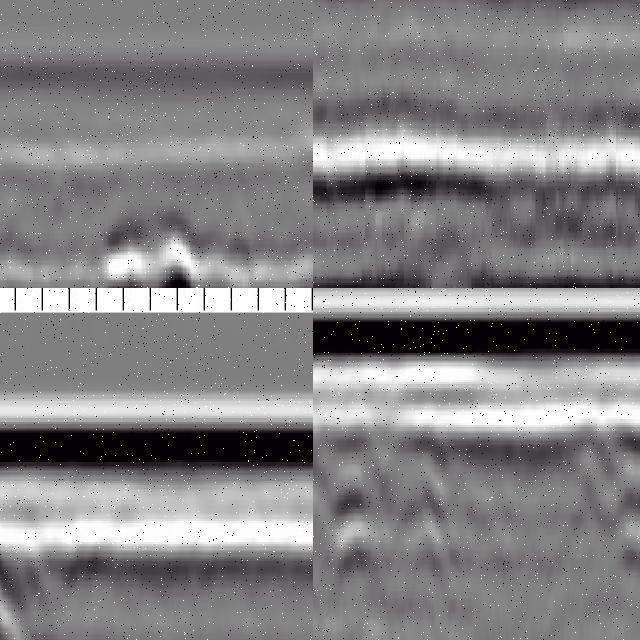loose: (314, 390, 465, 574), (1, 509, 140, 640), (87, 210, 249, 289), (589, 369, 640, 570)
